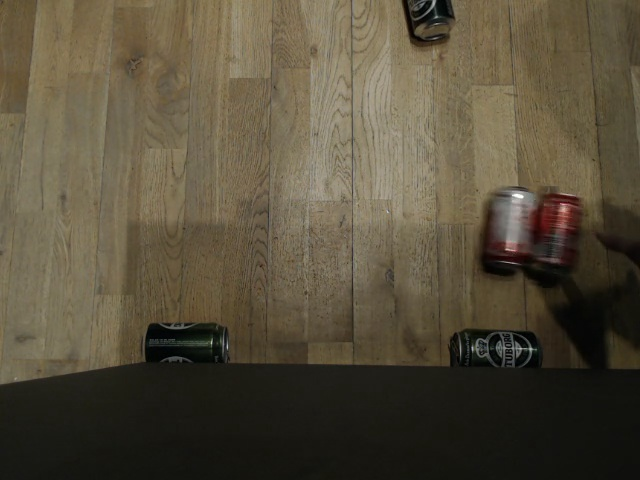beer: (448, 326, 543, 371), (140, 320, 229, 364), (394, 0, 453, 43)
cola: (485, 182, 538, 273), (534, 184, 586, 271)
